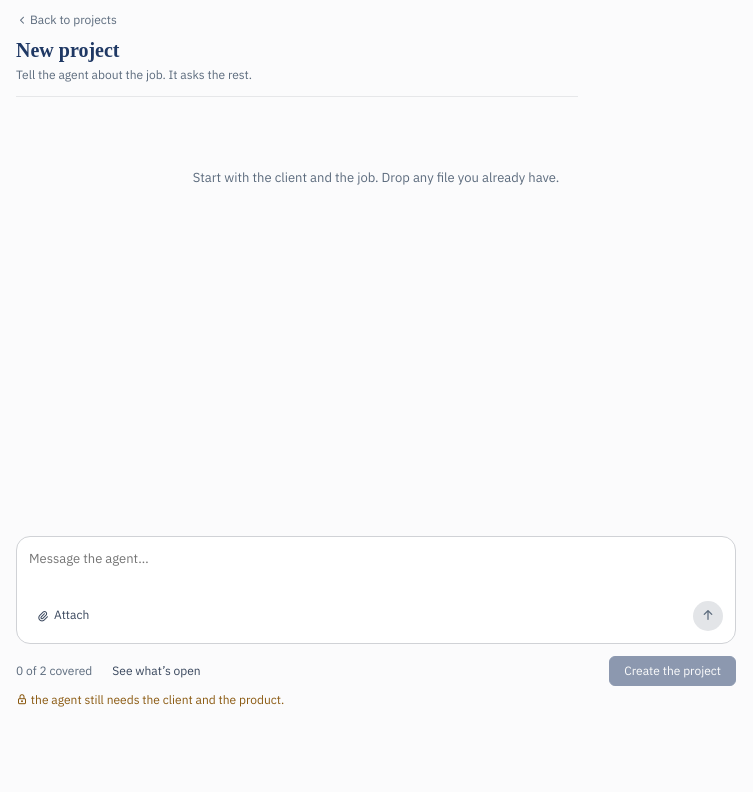
Test: the interview screen › lets the operator dismiss a failed turn's error, so it cannot be mistaken for a current one
Type "Acme, PET bottles." into the text box at coordinates (376, 571), box [29, 549, 723, 593]
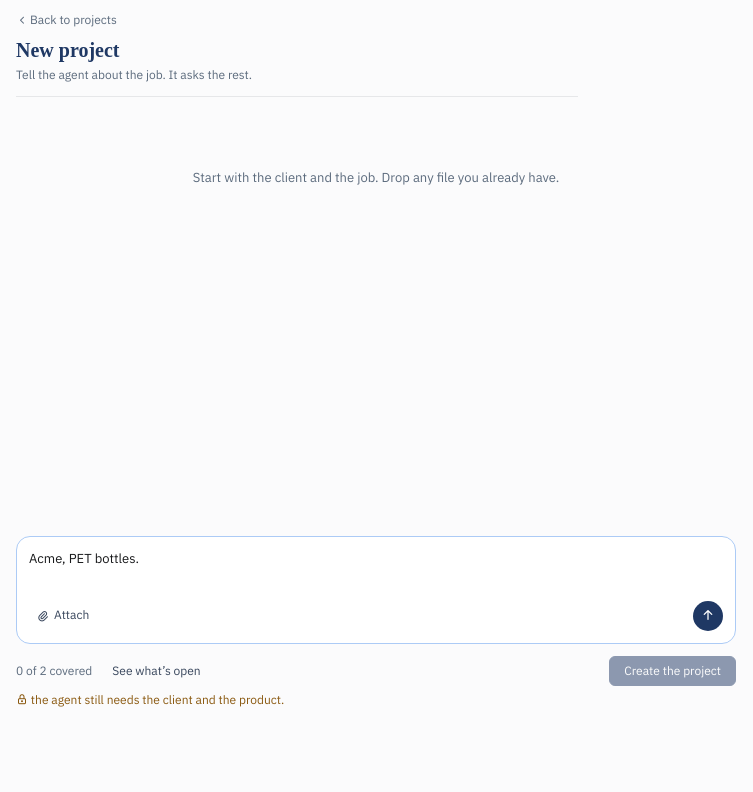
Click the button named "send" at coordinates (708, 616), box [693, 601, 723, 631]
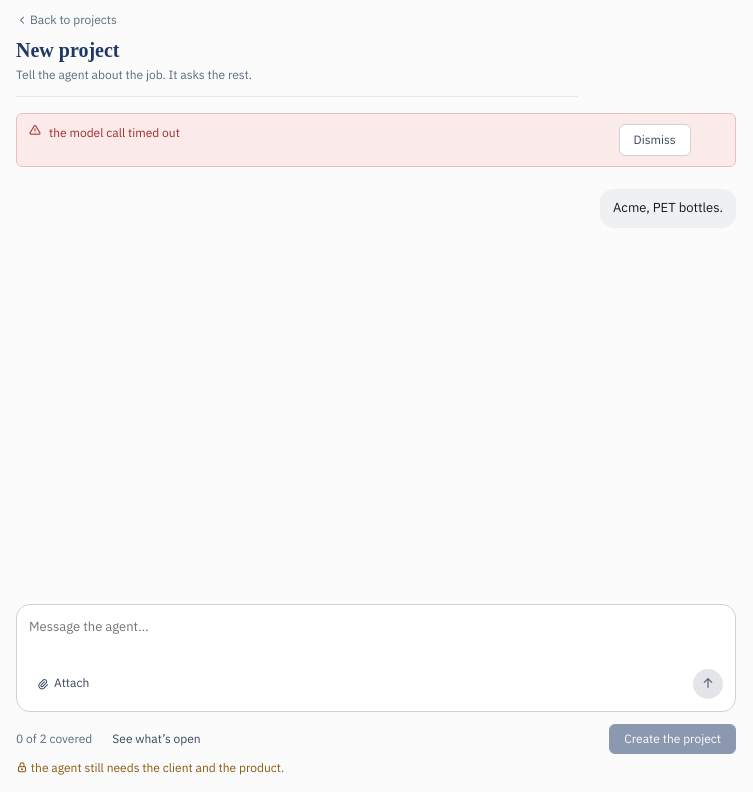
Expected: the text "the model call timed out" is shown, [49, 125, 180, 140]
Click the button "Dismiss" at coordinates (655, 140), box [619, 124, 691, 156]
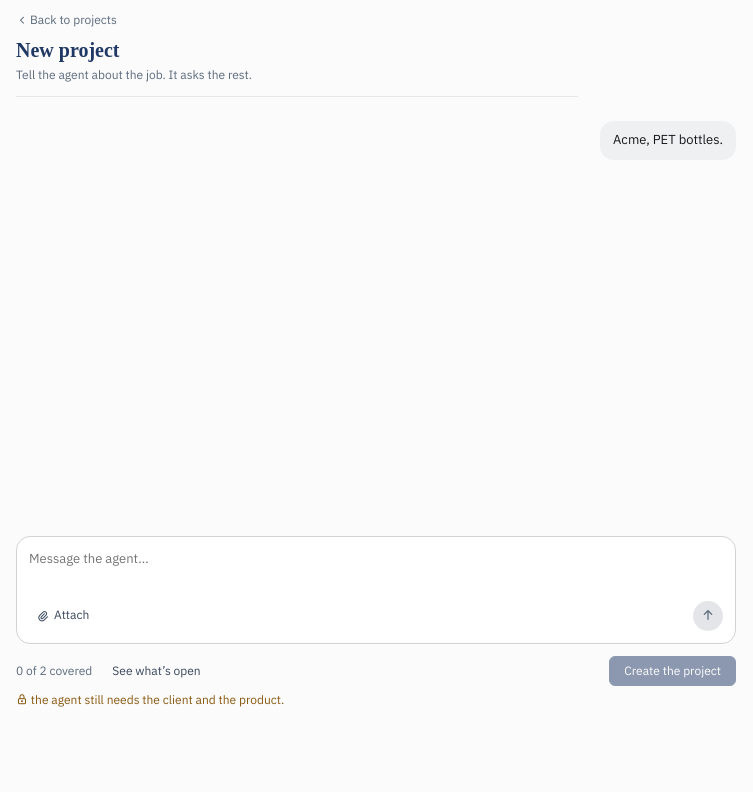
Expected: the text "the model call timed out" is gone
